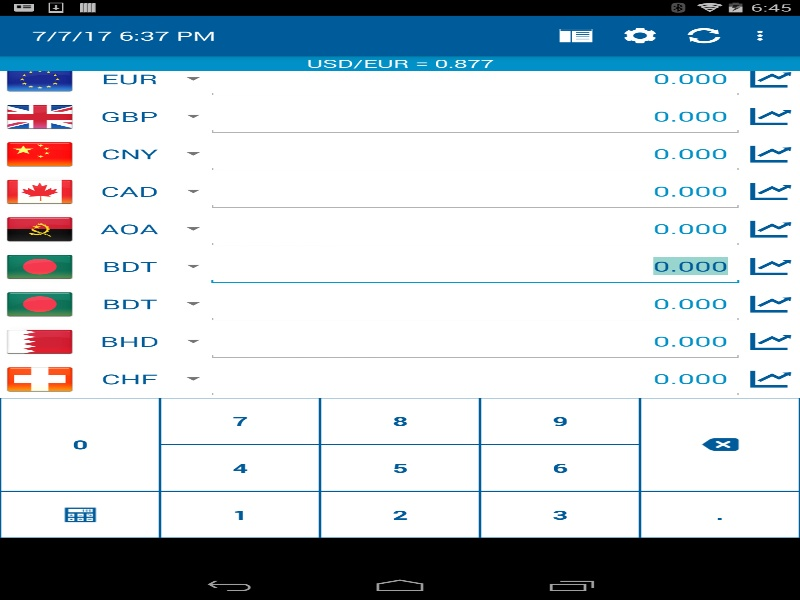Button: (0, 397, 160, 491), (640, 397, 800, 491), (0, 491, 160, 538), (160, 397, 320, 444), (320, 397, 480, 444), (480, 397, 640, 444), (160, 444, 320, 491), (320, 444, 480, 491), (480, 444, 640, 491), (160, 491, 320, 538), (320, 491, 480, 538), (480, 491, 640, 538), (640, 491, 800, 538)
Input: (206, 97, 744, 135), (206, 172, 744, 210), (206, 247, 744, 285), (206, 322, 744, 360), (206, 60, 744, 97), (206, 135, 744, 172), (206, 210, 744, 247), (206, 285, 744, 322), (206, 360, 744, 397)
